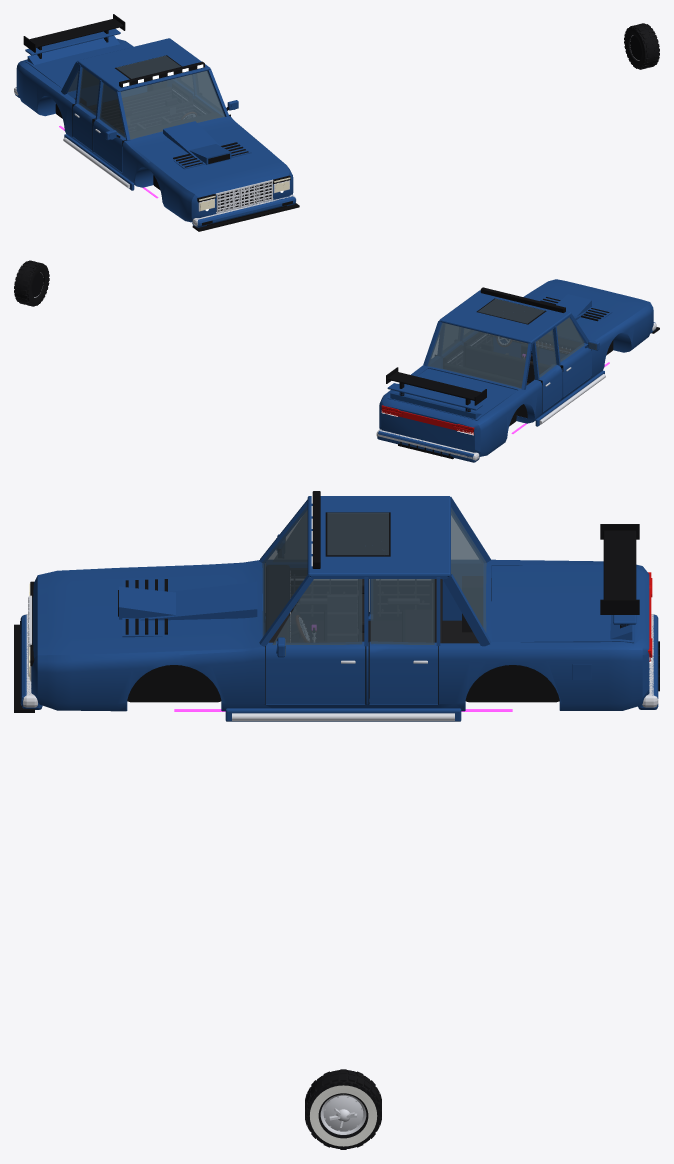
File: NorrbyDL84.glb
3 renders of one model, top to bottom at view 1: azimuth 30°, elevation 25°; view 2: azimuth 150°, elevation 25°; view 3: azimuth 270°, elevation 25°, orthographic. The views are drawn at different scales.
Parts seen in each view (by area): view 1: NorrbyDL84_PanelHood, NorrbyDL84_Glass, NorrbyDL84_PanelSideR, NorrbyDL84_PanelRoof, NorrbyDL84_Body, NorrbyDL84_RoofBody, NorrbyDL84_OptSpoilerGTDark, NorrbyDL84_Lid, NorrbyDL84_PanelDoorR, NorrbyDL84_OptHoodCowlBody, NorrbyDL84Wheel_TireOffroadRubber, NorrbyDL84_OptSeatsBucketsSeat (+23 smaller); view 2: NorrbyDL84_Body, NorrbyDL84_RoofGlass, NorrbyDL84_PanelSideR, NorrbyDL84_PanelRoof, NorrbyDL84_PanelHood, NorrbyDL84_Lid, NorrbyDL84_RoofBody, NorrbyDL84_OptSpoilerGTDark, NorrbyDL84_PanelDoorR, NorrbyDL84_OptSeatsDiamondSeat, NorrbyDL84_OptTopSunroofDark, NorrbyDL84Wheel_TireOffroadRubber (+18 smaller); view 3: NorrbyDL84_PanelSideL, NorrbyDL84_PanelHood, NorrbyDL84_Lid, NorrbyDL84_PanelRoof, NorrbyDL84_Body, NorrbyDL84_PanelDoorL, NorrbyDL84_Under, NorrbyDL84_RoofGlass__WinDoorL, NorrbyDL84_RoofGlass__WinDoorRL, NorrbyDL84_PanelDoorRL, NorrbyDL84_RoofBody, NorrbyDL84_Glass (+17 smaller).
Boxes of the visible parts, x1,y1,x2,y2 form: NorrbyDL84_PanelHood: [127, 116, 289, 197]; NorrbyDL84_Glass: [120, 71, 225, 139]; NorrbyDL84_PanelSideR: [16, 63, 194, 221]; NorrbyDL84_PanelRoof: [77, 38, 210, 91]; NorrbyDL84_Body: [18, 38, 293, 222]; NorrbyDL84_RoofBody: [61, 61, 228, 140]; NorrbyDL84_OptSpoilerGTDark: [23, 14, 125, 58]; NorrbyDL84_Lid: [25, 41, 127, 89]; NorrbyDL84_PanelDoorR: [93, 118, 125, 171]; NorrbyDL84_OptHoodCowlBody: [163, 121, 219, 160]; NorrbyDL84Wheel_TireOffroadRubber: [624, 23, 659, 69]; NorrbyDL84_OptSeatsBucketsSeat: [88, 87, 180, 130]; NorrbyDL84_Body: [379, 329, 631, 456]; NorrbyDL84_RoofGlass: [427, 322, 528, 388]; NorrbyDL84_PanelSideR: [474, 302, 653, 456]; NorrbyDL84_PanelRoof: [439, 290, 571, 343]; NorrbyDL84_PanelHood: [523, 279, 649, 340]; NorrbyDL84_Lid: [387, 368, 517, 420]; NorrbyDL84_RoofBody: [423, 314, 588, 389]; NorrbyDL84_OptSpoilerGTDark: [386, 367, 486, 411]; NorrbyDL84_PanelDoorR: [560, 343, 591, 396]; NorrbyDL84_OptSeatsDiamondSeat: [465, 346, 550, 381]; NorrbyDL84_OptTopSunroofDark: [476, 298, 546, 324]; NorrbyDL84Wheel_TireOffroadRubber: [14, 260, 49, 306]; NorrbyDL84_PanelSideL: [37, 648, 649, 711]; NorrbyDL84_PanelHood: [32, 561, 262, 657]; NorrbyDL84_Lid: [492, 564, 633, 643]; NorrbyDL84_PanelRoof: [307, 496, 450, 576]; NorrbyDL84_Body: [31, 559, 649, 710]; NorrbyDL84_PanelDoorL: [266, 641, 365, 703]; NorrbyDL84_Under: [127, 578, 559, 702]; NorrbyDL84_RoofGlass__WinDoorL: [272, 579, 362, 644]; NorrbyDL84_RoofGlass__WinDoorRL: [370, 579, 434, 644]; NorrbyDL84_PanelDoorRL: [369, 641, 437, 703]; NorrbyDL84_RoofBody: [259, 497, 490, 646]; NorrbyDL84_Glass: [262, 506, 307, 636].
Bounding box in the file's own units: 34.67 × 6.99 × 19.86.
